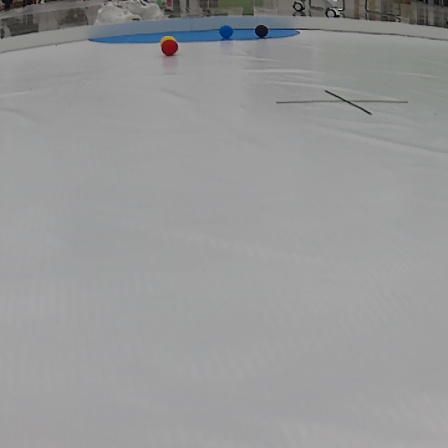black: (254, 25, 269, 38)
blue: (220, 23, 234, 37)
blue_base: (87, 25, 300, 44)
red: (162, 41, 177, 56)
yellow: (162, 34, 173, 41)
